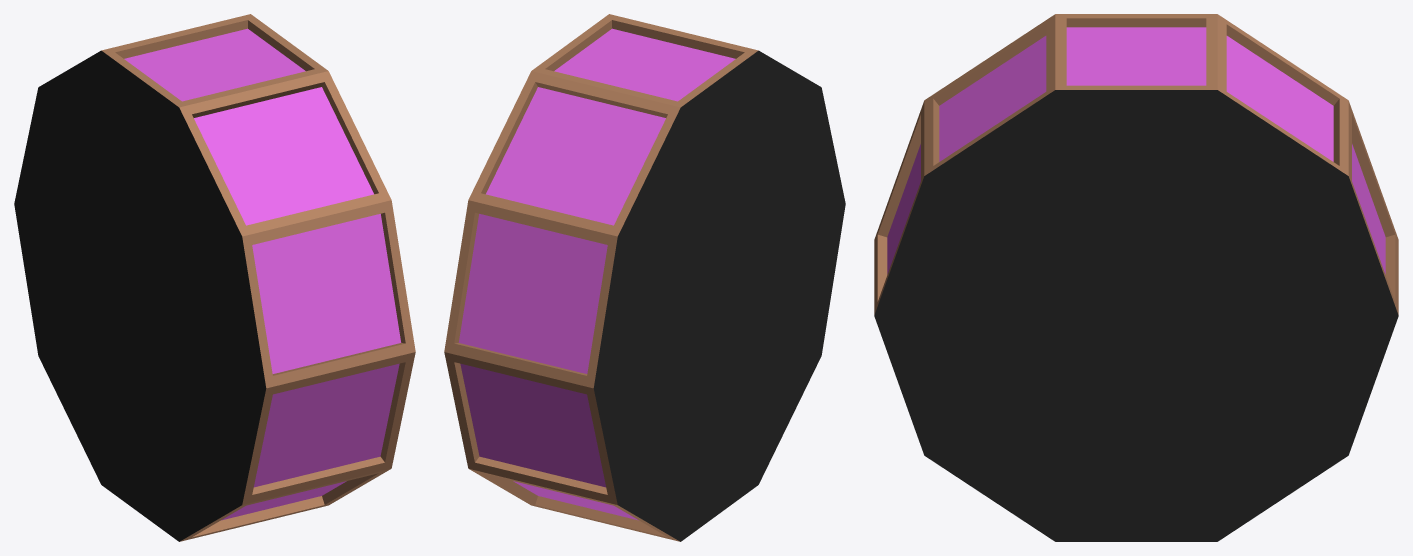
File: RotatorZahlen.fbx
The picture shows the model from 3 angles, left to right: view 1: azimuth 30°, elevation 25°; view 2: azimuth 150°, elevation 25°; view 3: azimuth 270°, elevation 25°; orthographic projection. The views are drawn at different scales.
Parts seen in each view (by area): view 1: Rotator Zahlen; view 2: Rotator Zahlen; view 3: Rotator Zahlen.
Part boxes in pixels (x1,y1,x2,y2): Rotator Zahlen: (14, 14, 415, 541); Rotator Zahlen: (444, 14, 845, 541); Rotator Zahlen: (874, 14, 1398, 541).
Size of the model in its own units: 9 by 25 by 26.29.
